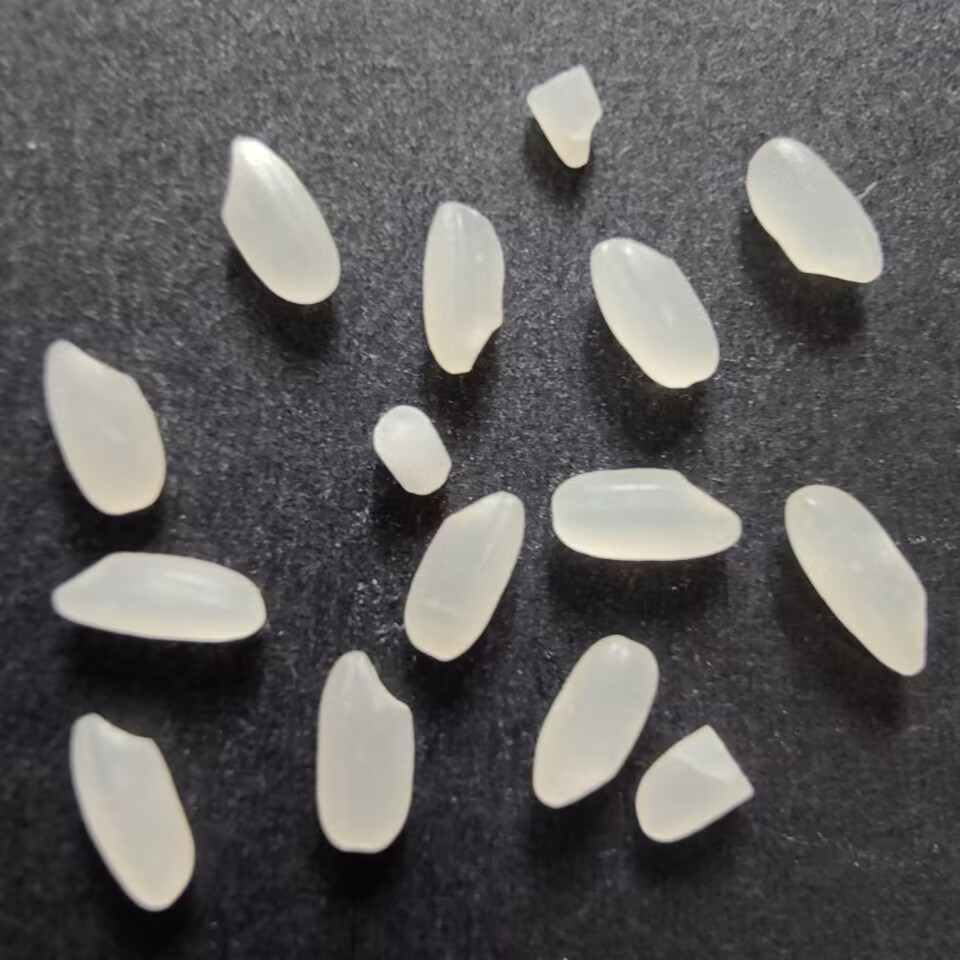broken: (631, 720, 757, 844), (520, 62, 606, 174), (368, 402, 455, 501)
rice: (782, 483, 931, 678), (65, 712, 198, 915), (532, 632, 664, 811), (41, 339, 169, 520), (310, 648, 419, 858), (400, 487, 527, 666), (217, 133, 344, 307), (742, 135, 888, 286), (45, 549, 269, 647), (589, 236, 723, 391), (547, 465, 746, 566), (419, 200, 506, 378)
